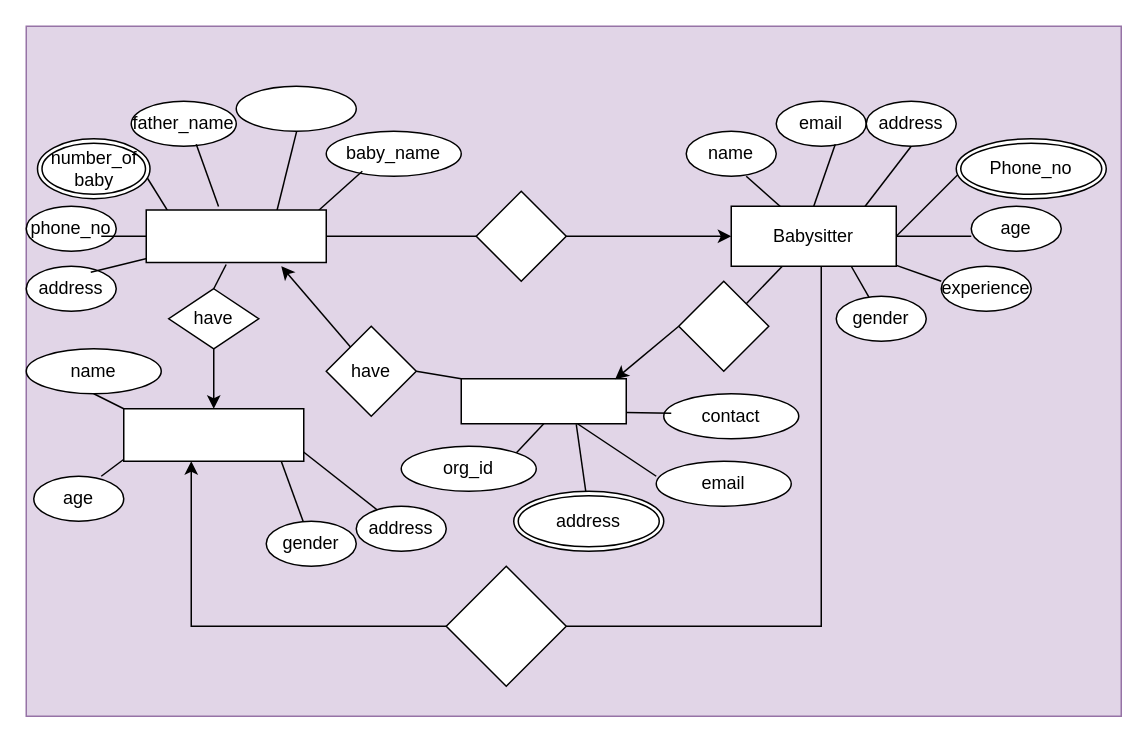
Some shapes in this 1148 by 743 pixel diagram are drawn without their labels. The centre of each missing label's shape, as x and y in pixels:
Baby: the point at 213,434
book: the point at 520,235
mother_name: the point at 295,108
Organization: the point at 543,400
Parents: the point at 235,235
takecare: the point at 505,625
works: the point at 723,325
